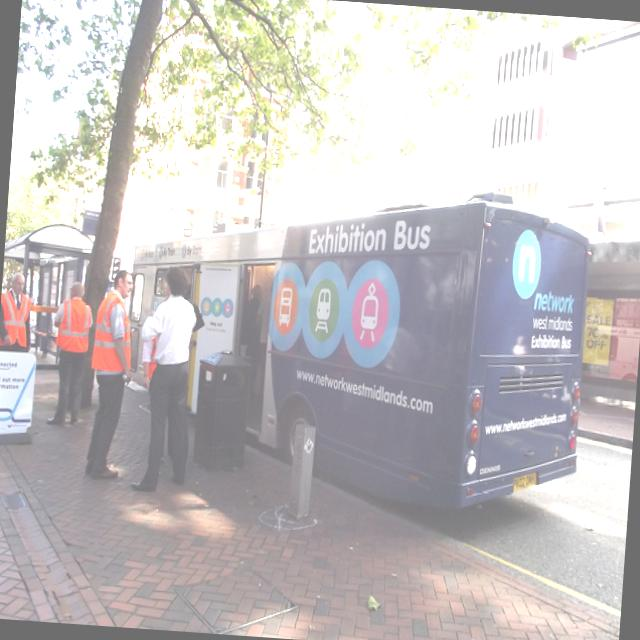Vehicle: (120, 168, 598, 511)
